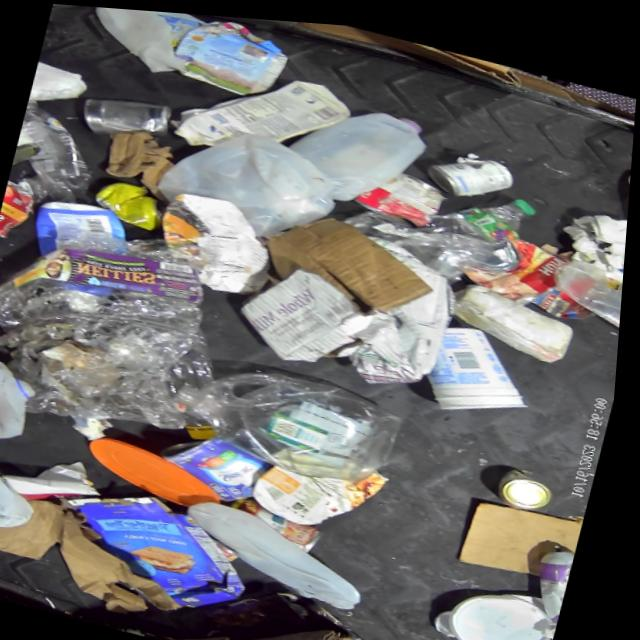can: (157, 421, 279, 506), (352, 157, 451, 227), (229, 488, 335, 550), (423, 136, 520, 201), (77, 83, 174, 147), (91, 173, 171, 230), (534, 532, 583, 614), (498, 456, 562, 507), (0, 178, 41, 243), (475, 226, 527, 270), (218, 535, 250, 559)
milk_jug: (150, 108, 351, 249), (166, 46, 358, 176), (179, 491, 384, 608), (279, 84, 435, 213), (83, 5, 206, 80), (0, 432, 54, 537), (0, 349, 49, 452)
non_white_jug: (167, 344, 414, 488), (60, 477, 271, 616), (146, 182, 285, 298), (251, 432, 398, 536)
plastic_bottle: (11, 97, 108, 193), (438, 173, 541, 242), (50, 3, 102, 16)
